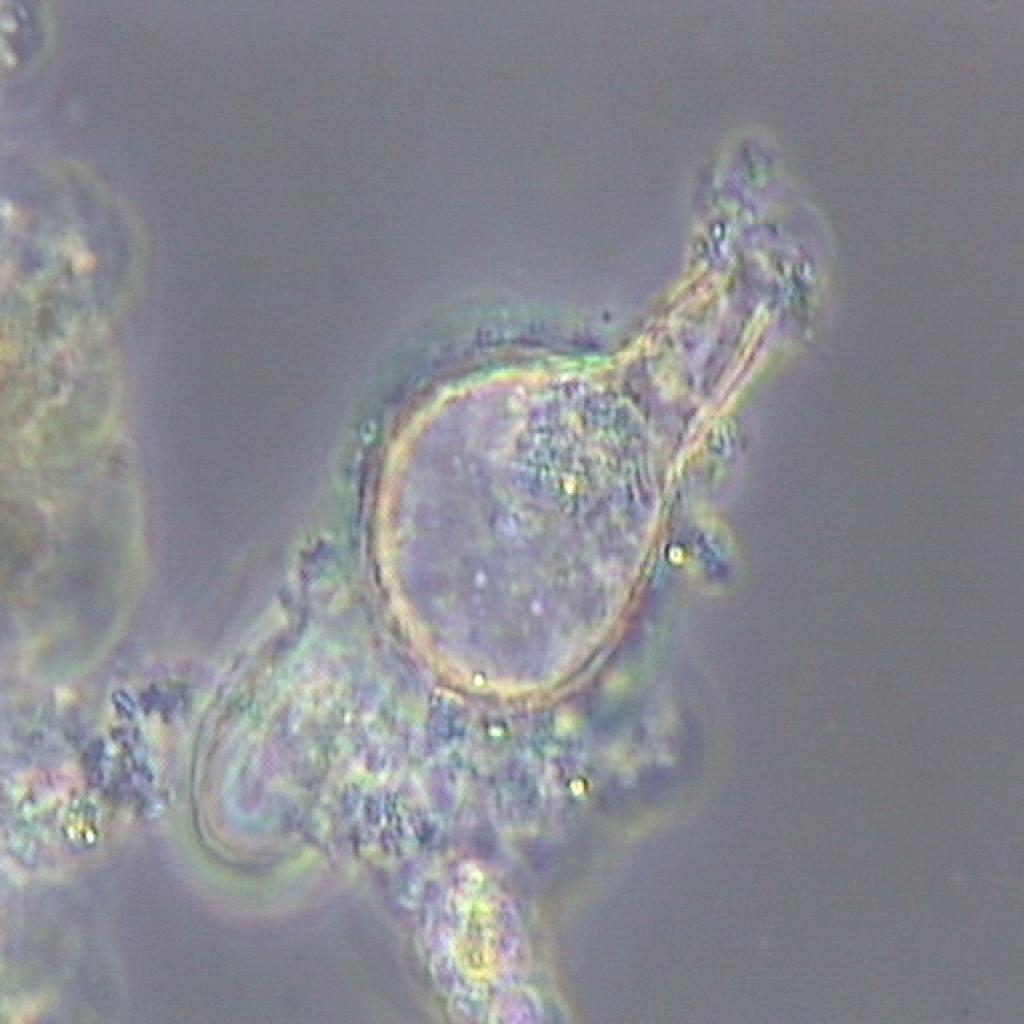Chaetopira: (343, 144, 870, 705)
